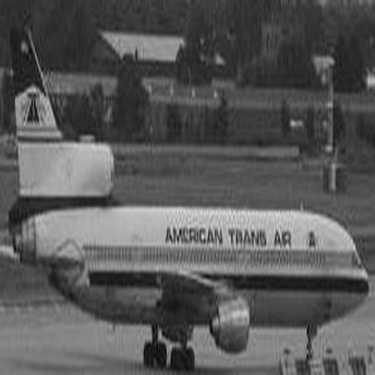airplane: (1, 19, 372, 362)
